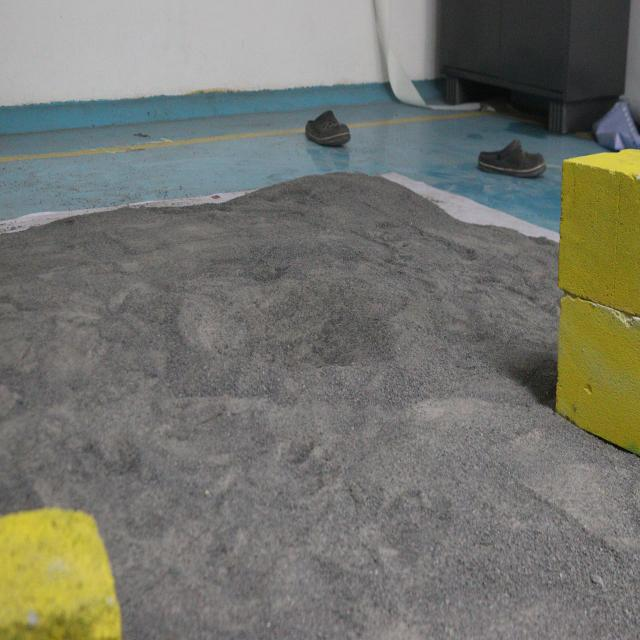box: (561, 152, 640, 453), (0, 510, 116, 640)
crater: (170, 250, 411, 389)
